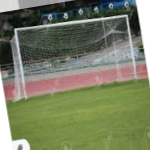goals: (9, 12, 139, 103)
